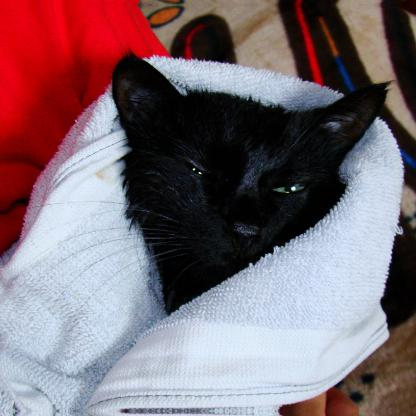Cat: (109, 48, 392, 312)
